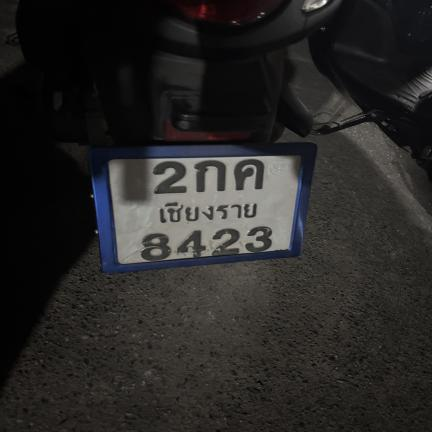2: (153, 160, 187, 194), (210, 227, 241, 255)
3: (244, 226, 273, 252)
8: (138, 231, 173, 261)
A01: (192, 159, 227, 193)
A04: (233, 159, 265, 191), (176, 230, 207, 257)
CRI: (154, 200, 259, 224)
